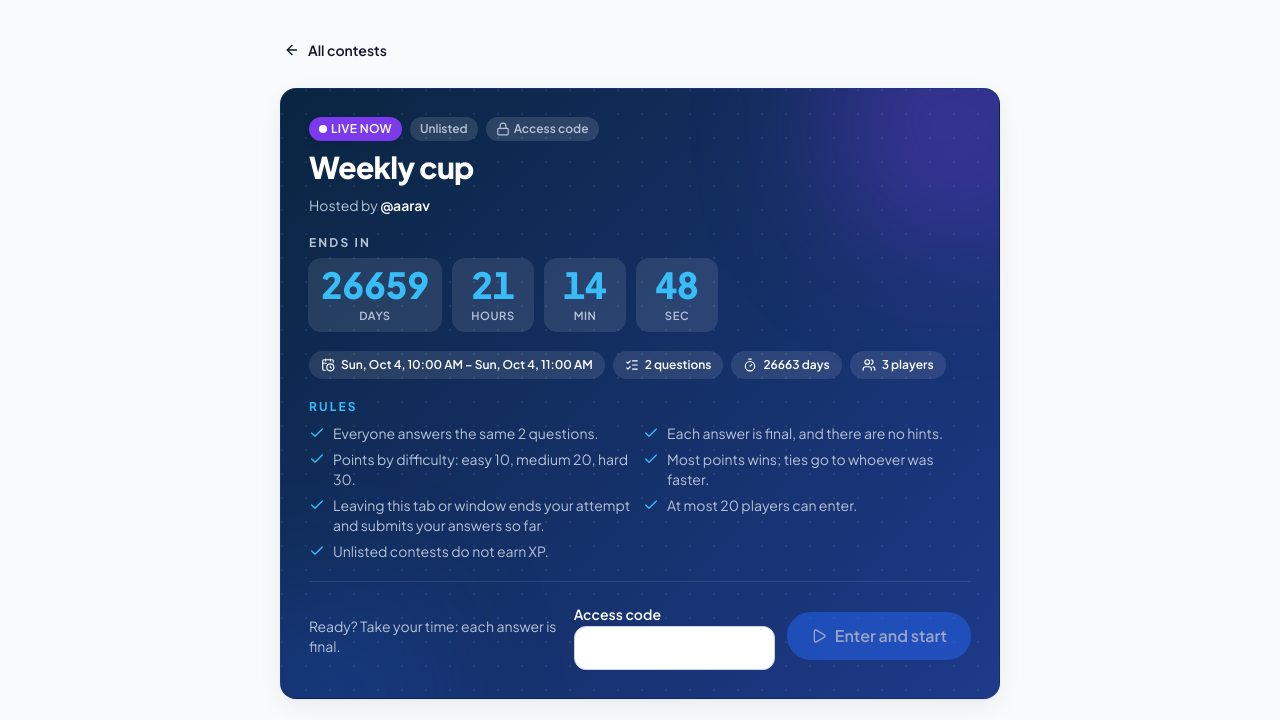
hosted contests › a contest with an access code needs it before you can enter, and says when it is wrong
Expected: the button "Enter and start" is disabled, x1=787 y1=612 x2=971 y2=660
Type "nope1" into the field labelled "Access code" at (674, 648), box x1=574 y1=626 x2=775 y2=670
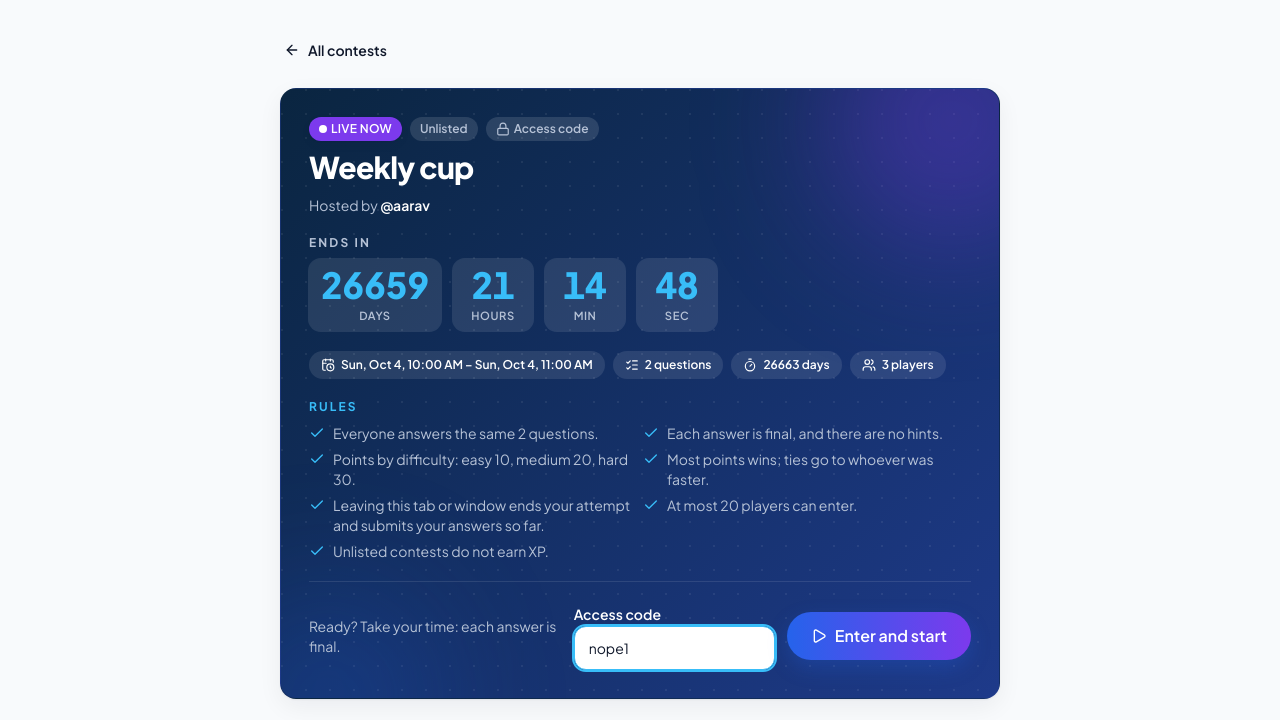
Now the button "Enter and start" is enabled
Click the button "Enter and start" at (879, 636), box x1=787 y1=612 x2=971 y2=660
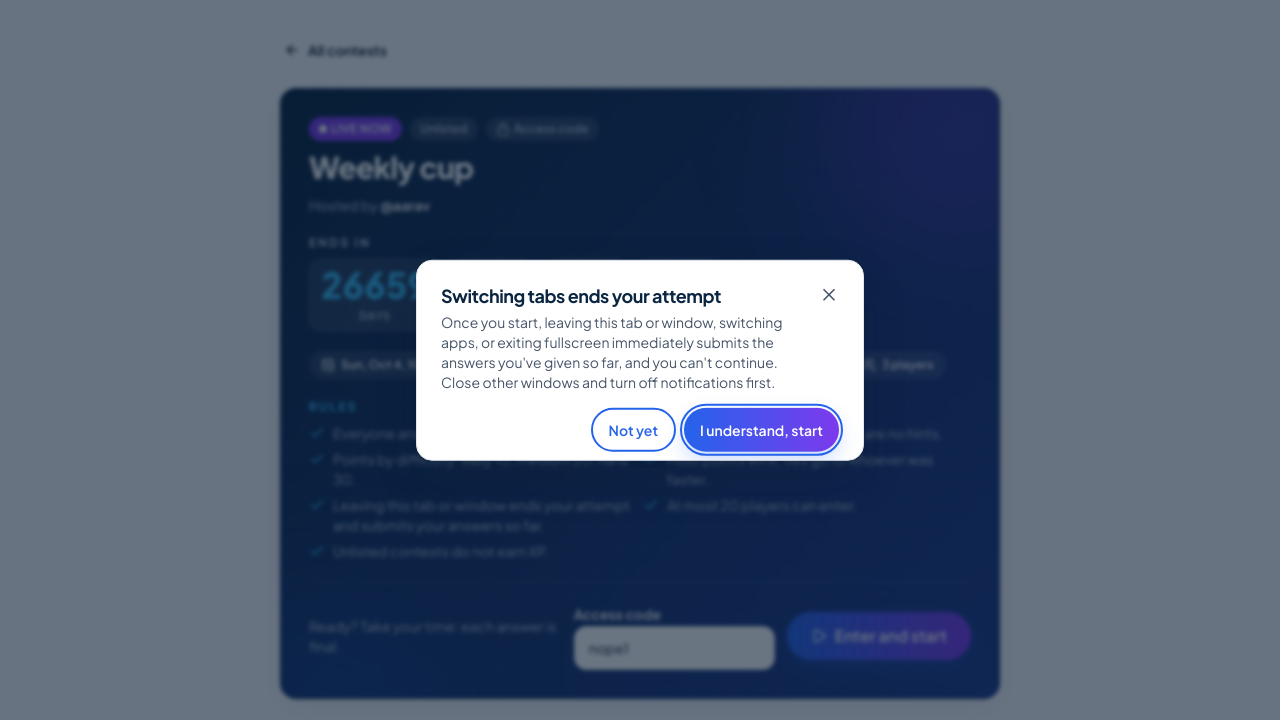
Click the button "I understand, start" at (762, 429), box x1=684 y1=407 x2=839 y2=451
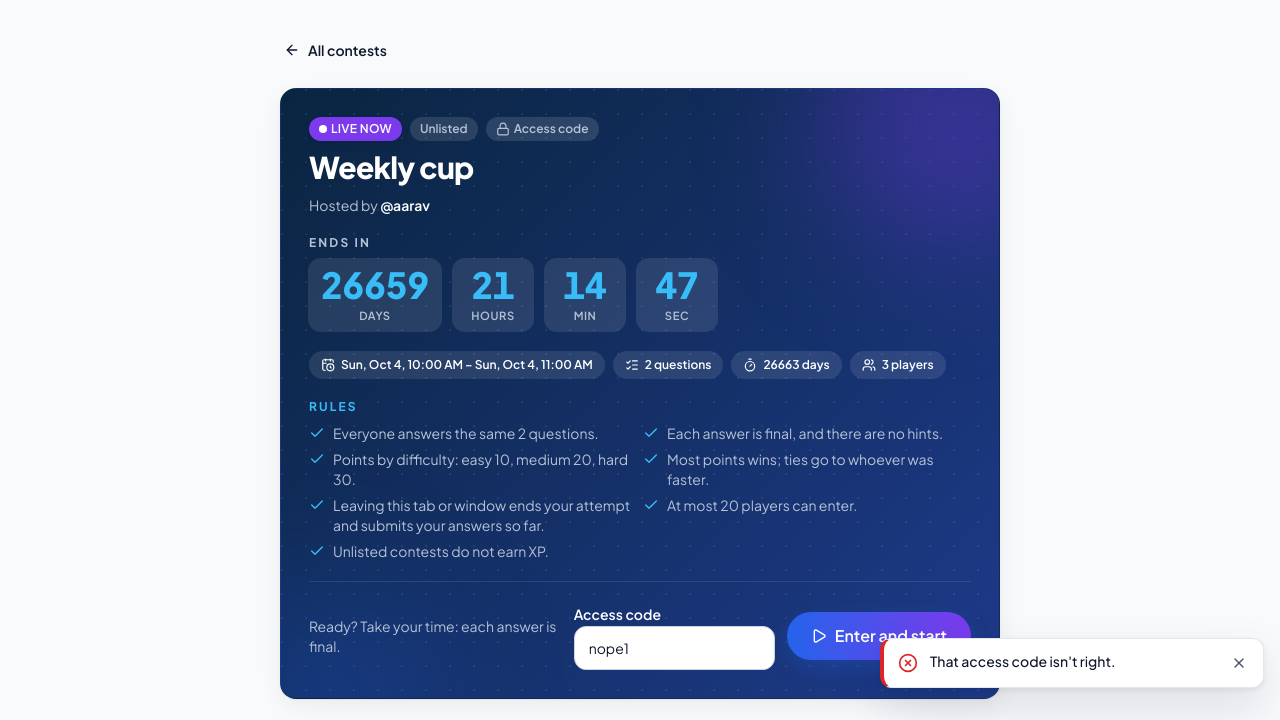
Now the text "That access code isn't right." is shown, box x1=930 y1=652 x2=1115 y2=670
